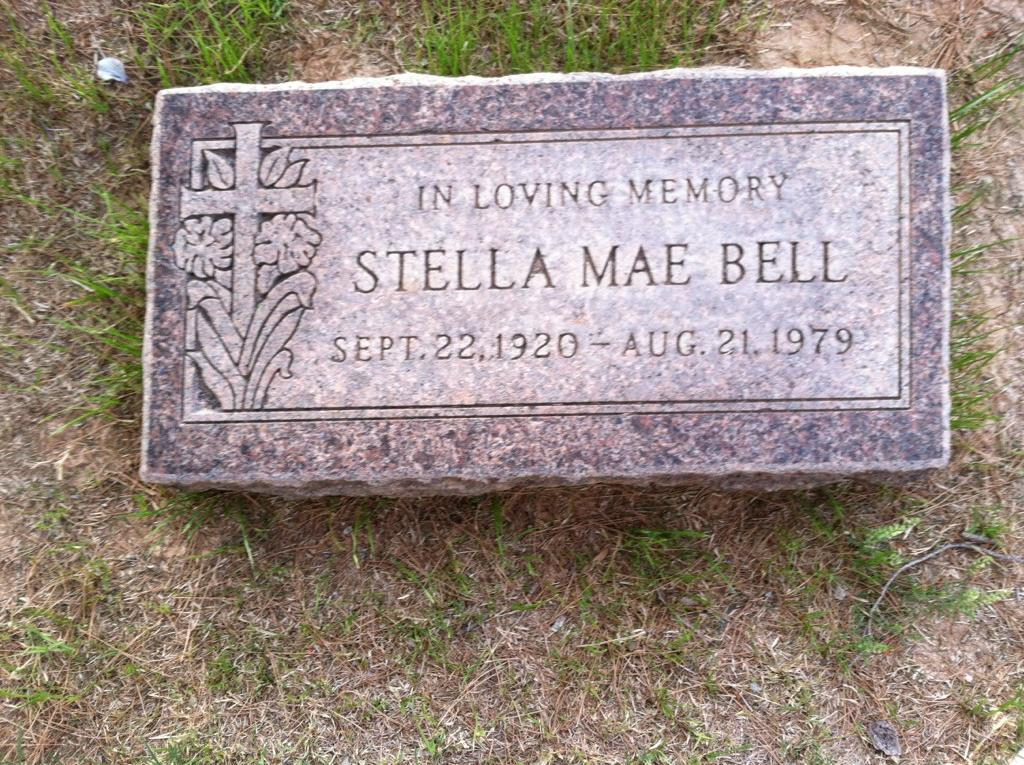flat: (138, 68, 956, 497)
